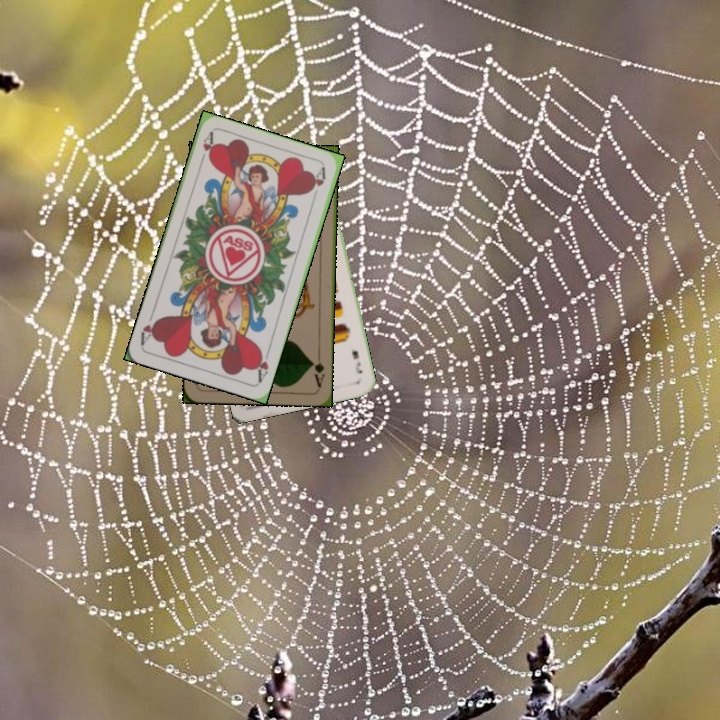E7: (348, 346, 365, 376)
GA: (308, 349, 327, 390)
HA: (251, 345, 272, 385), (195, 129, 216, 168)
